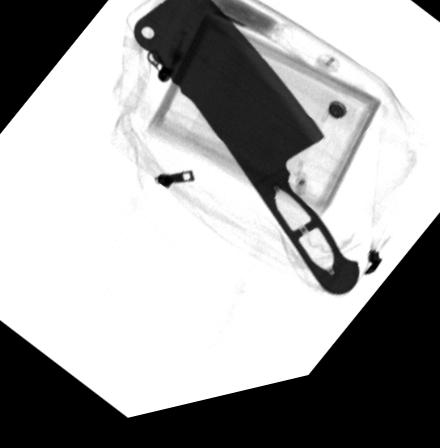Knife: (131, 0, 360, 312)
